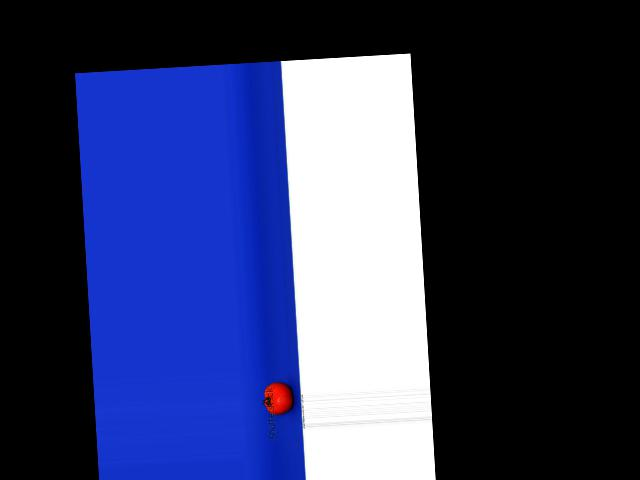tomato: (263, 380, 293, 414)
